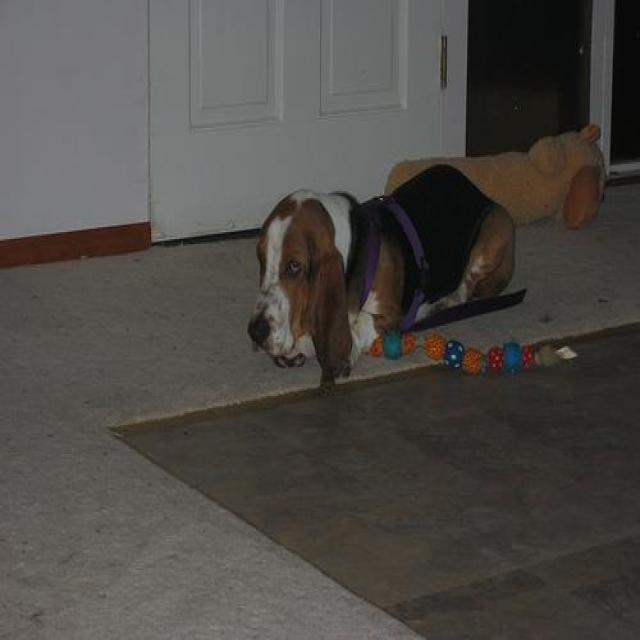basset: (246, 160, 518, 400)
